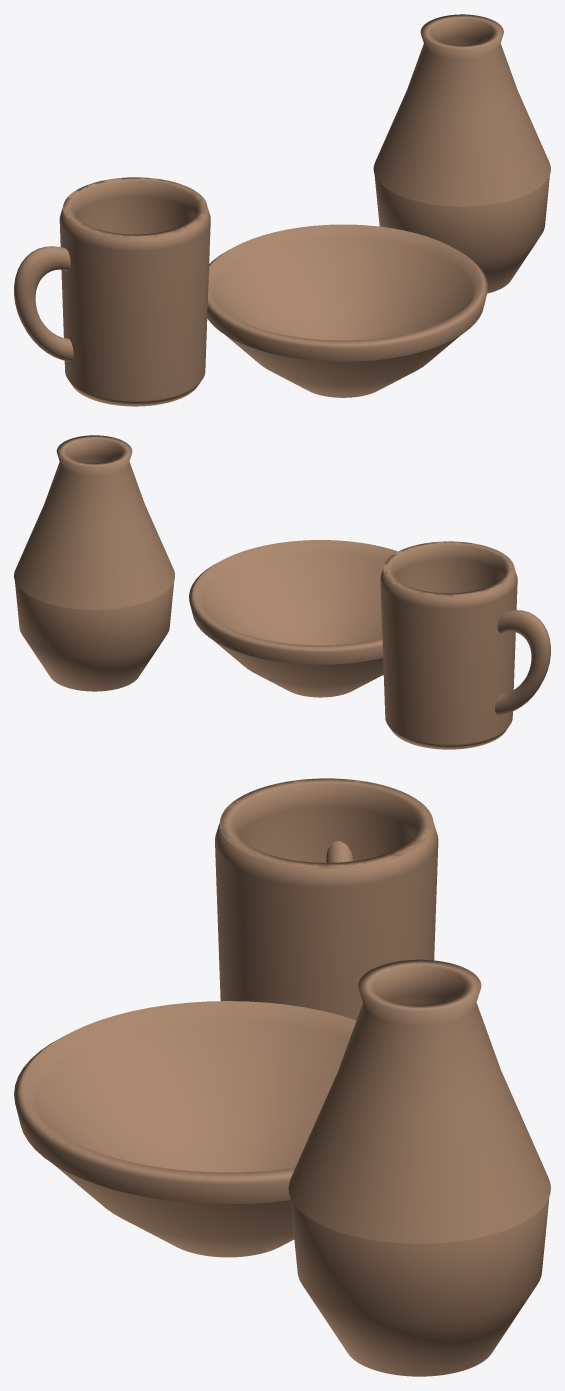
Rendered from ceramic_set.glb.
The picture shows the model from 3 angles, top to bottom: view 1: azimuth 30°, elevation 25°; view 2: azimuth 150°, elevation 25°; view 3: azimuth 270°, elevation 25°; orthographic projection. The views are drawn at different scales.
Parts seen in each view (by area): view 1: mesh_clay_cup, mesh_clay_bowl, mesh_clay_vase_glaze, mesh_clay_vase, mesh_clay_bowl_glaze, mesh_clay_handle, mesh_clay_cup_glaze; view 2: mesh_clay_cup, mesh_clay_bowl, mesh_clay_vase_glaze, mesh_clay_vase, mesh_clay_bowl_glaze, mesh_clay_handle, mesh_clay_cup_glaze; view 3: mesh_clay_bowl, mesh_clay_vase_glaze, mesh_clay_cup, mesh_clay_vase, mesh_clay_bowl_glaze, mesh_clay_cup_glaze.
Part boxes in pixels (x1,y1,x2,y2): mesh_clay_cup: [59, 177, 210, 406]; mesh_clay_bowl: [208, 225, 480, 397]; mesh_clay_vase_glaze: [373, 14, 550, 206]; mesh_clay_vase: [374, 14, 549, 293]; mesh_clay_bowl_glaze: [207, 224, 487, 361]; mesh_clay_handle: [14, 246, 73, 361]; mesh_clay_cup_glaze: [63, 177, 207, 238]; mesh_clay_cup: [380, 541, 517, 749]; mesh_clay_bowl: [196, 540, 397, 697]; mesh_clay_vase_glaze: [14, 435, 174, 609]; mesh_clay_vase: [15, 435, 174, 691]; mesh_clay_bowl_glaze: [189, 540, 397, 664]; mesh_clay_handle: [494, 610, 550, 714]; mesh_clay_cup_glaze: [383, 541, 514, 596]; mesh_clay_bowl: [25, 1001, 356, 1257]; mesh_clay_vase_glaze: [288, 959, 550, 1243]; mesh_clay_cup: [215, 778, 438, 1020]; mesh_clay_vase: [290, 960, 549, 1376]; mesh_clay_bowl_glaze: [14, 1001, 356, 1204]; mesh_clay_cup_glaze: [219, 778, 433, 868].
Bounding box in the file's own units: 3.54 × 1.56 × 2.02.
